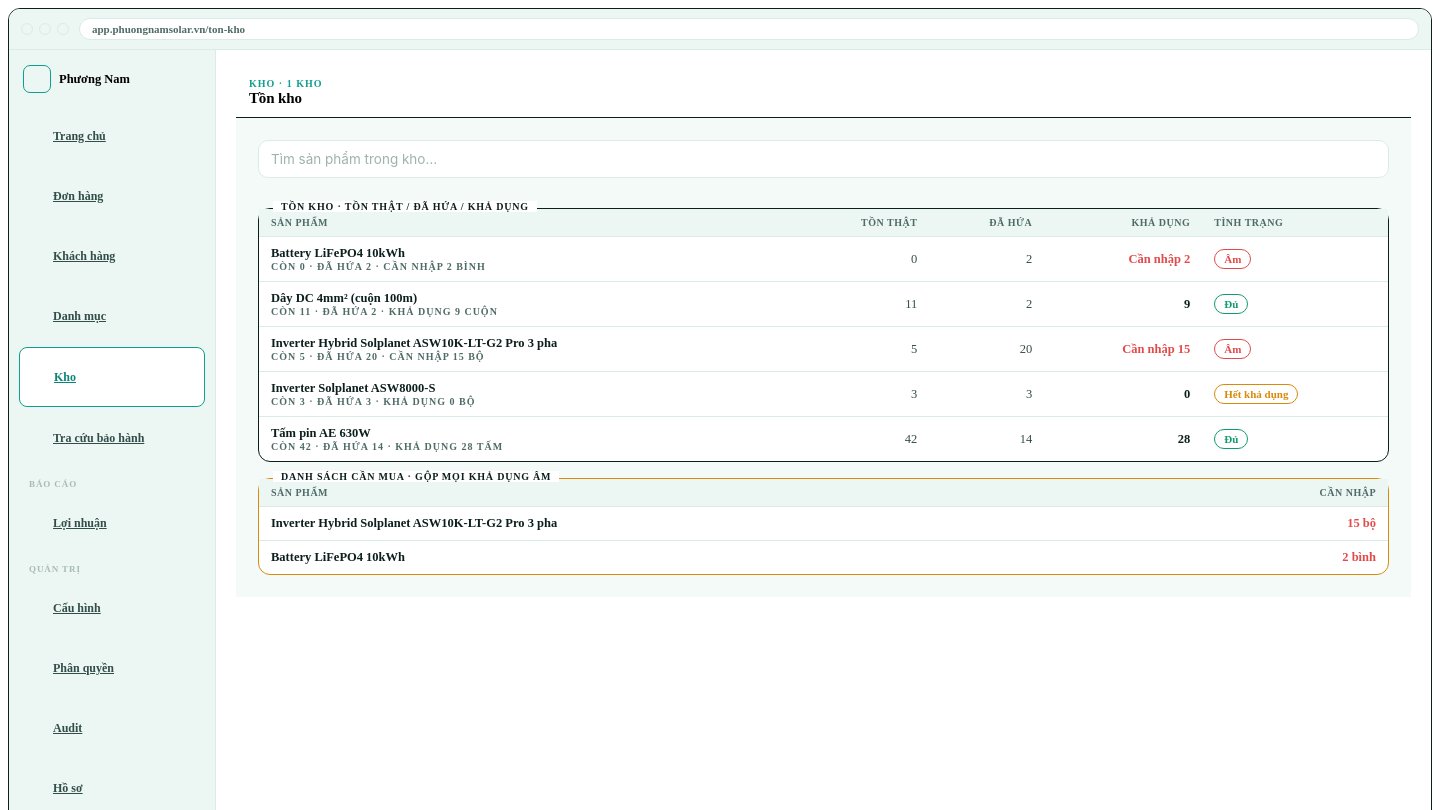
it: InventoryScreen — hành vi › ô tìm gửi q xuống cổng; tìm không ra ⇒ câu riêng của tìm kiếm
In the field labelled "Tìm sản phẩm trong kho": (824, 159) [258,140,1389,178], type "khong-co"
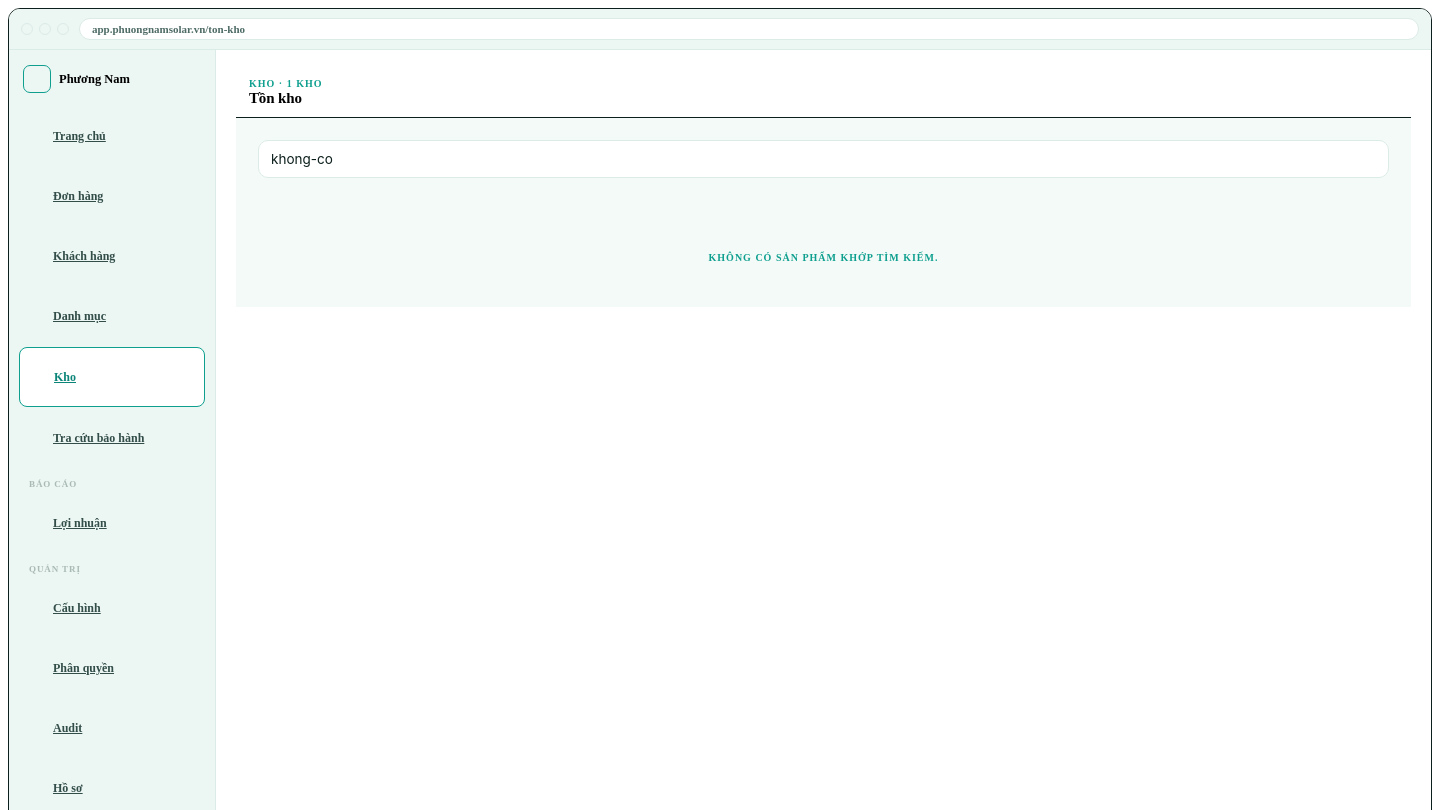
Check: the text "Không có sản phẩm khớp tìm kiếm." is shown, box [708,252,938,263]
